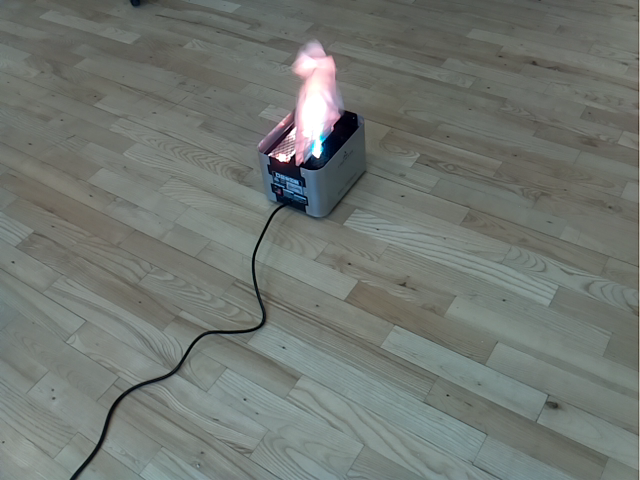fire: (289, 38, 343, 166)
